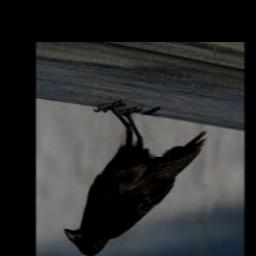Crow: (64, 101, 209, 256)
